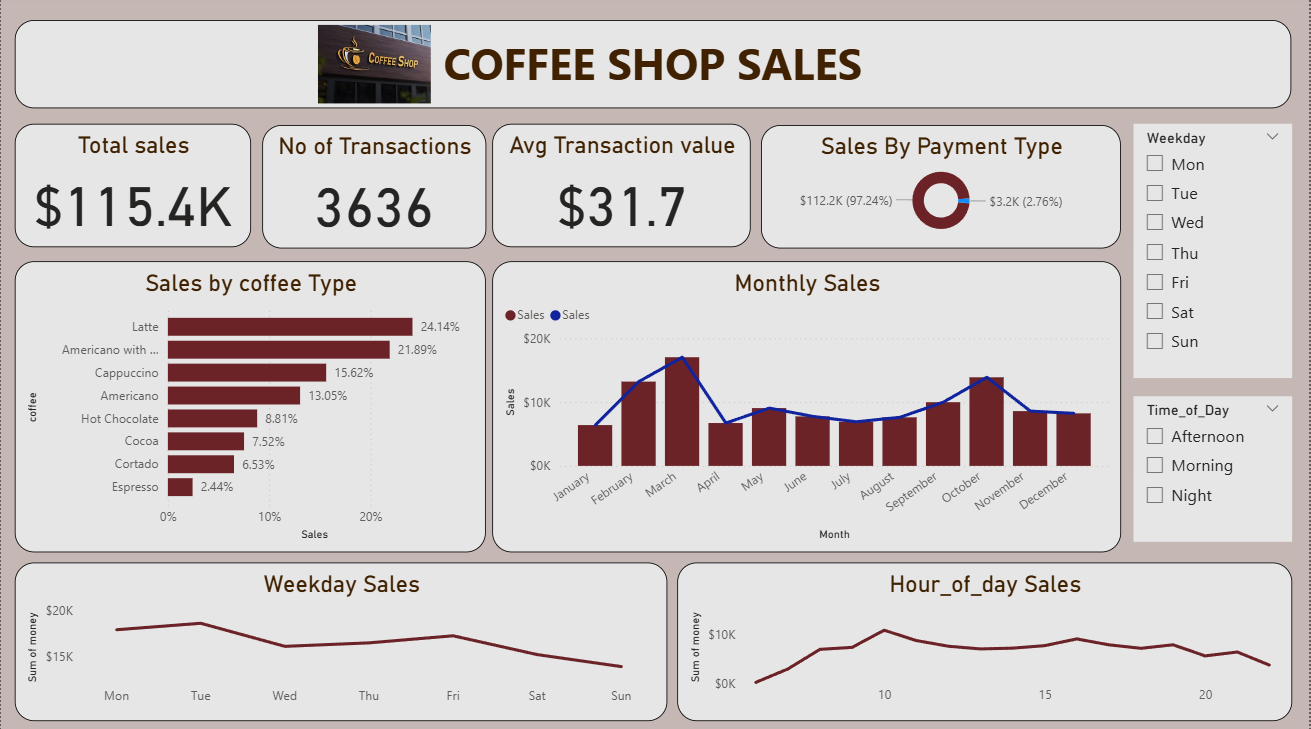

The dashboard page shown, as its layout file describes it:
{"tool":"powerbi","page":{"name":"Page 1","canvas":[1280,720],"ordinal":0},"visuals":[{"type":"card","title":"Total sales","fields":{"Values":["Sum(Table_1.money)"]},"box":[13.5,126,231.1,121.1],"z":0},{"type":"textbox","box":[13.8,25,1248.8,86.2],"z":1000},{"type":"image","box":[305,25,121.2,86.2],"z":2000},{"type":"card","title":"No of Transactions","fields":{"Values":["CountNonNull(Table_1.money)"]},"box":[255.6,127.2,218.9,121.1],"z":3000},{"type":"card","title":"Avg Transaction value","fields":{"Values":["Avg(Table_1.money)"]},"box":[480.6,126,253.1,121.1],"z":4000},{"type":"donutChart","title":"Sales By Payment Type","fields":{"Y":["Sum(Table_1.money)"],"Category":["Table_1.cash_type"]},"box":[743.5,127.2,352.2,121.1],"z":5000},{"type":"barChart","title":"Sales by coffee Type","fields":{"Y":["Sum(Table_1.money)"],"Category":["Table_1.coffee_name"]},"box":[13.5,260.5,461,284.9],"z":6000},{"type":"lineStackedColumnComboChart","title":"Monthly Sales","fields":{"Y":["Sum(Table_1.money)"],"Category":["Table_1.datetime.Variation.Date Hierarchy.Month"],"Y2":["Sum(Table_1.money)"]},"box":[480,260,615,285],"z":7000},{"type":"slicer","fields":{"Values":["Table_1.Weekday"]},"box":[1107.5,126.2,155,248.8],"z":8000},{"type":"slicer","fields":{"Values":["Table_1.Time_of_Day"]},"box":[1107.5,392.5,155,142.5],"z":9000},{"type":"lineChart","title":"Weekday Sales","fields":{"Y":["Sum(Table_1.money)"],"Category":["Table_1.Weekday"]},"box":[13.5,555.2,638.3,155.3],"z":10000},{"type":"lineChart","title":"Hour_of_day Sales","fields":{"Y":["Sum(Table_1.money)"],"Category":["Table_1.hour_of_day"]},"box":[661.2,555,601.2,155],"z":11000}]}

Visuals, with their boxes in screenshot pixels (x1, y1, x2, y2), scaled from the page's 1280x720 canvas onto the 1311x729 screenshot:
"Total sales" card: 14 128 251 250
textbox: 14 25 1293 113
image: 312 25 437 113
"No of Transactions" card: 262 129 486 251
"Avg Transaction value" card: 492 128 751 250
"Sales By Payment Type" donutChart: 762 129 1122 251
"Sales by coffee Type" barChart: 14 264 486 552
"Monthly Sales" lineStackedColumnComboChart: 492 263 1122 552
slicer - Table_1.Weekday: 1134 128 1293 380
slicer - Table_1.Time_of_Day: 1134 397 1293 542
"Weekday Sales" lineChart: 14 562 668 719
"Hour_of_day Sales" lineChart: 677 562 1293 719
